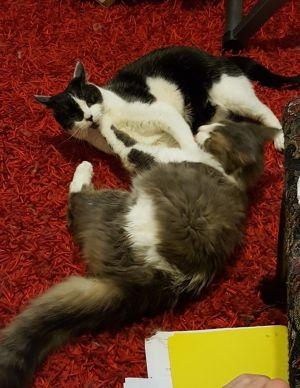ragdoll: (28, 59, 114, 142)
